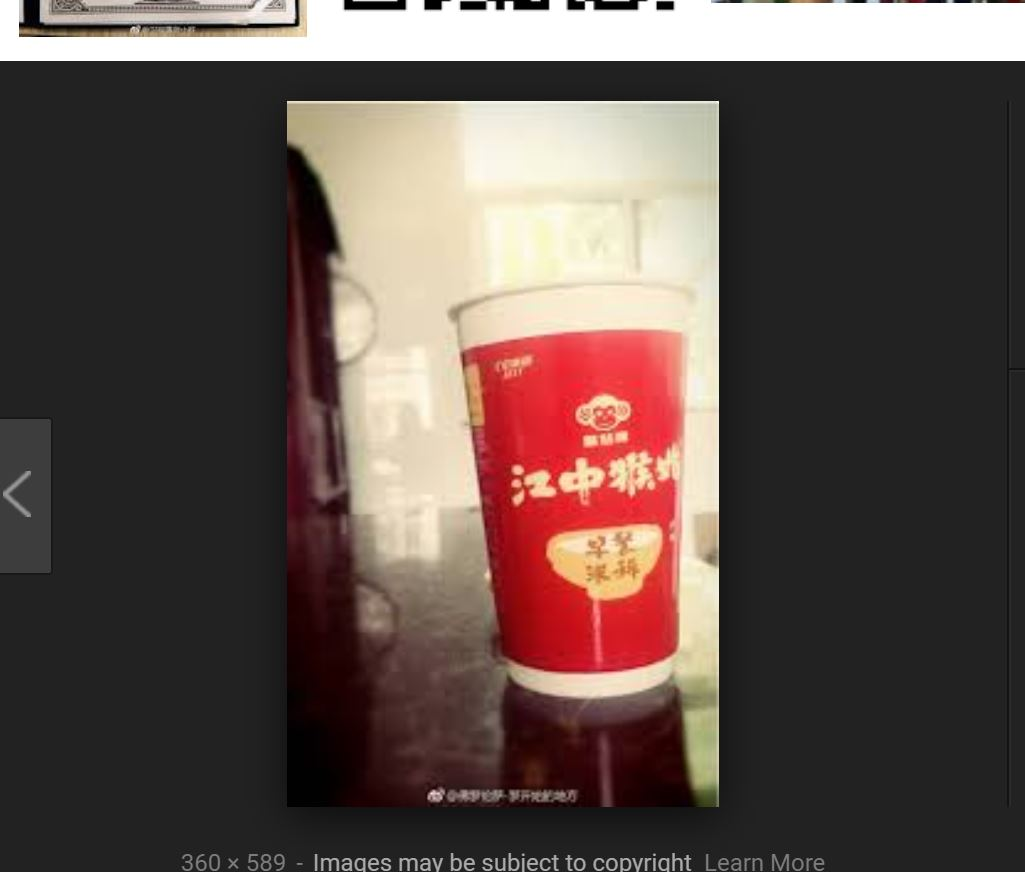cup: (449, 277, 700, 696)
